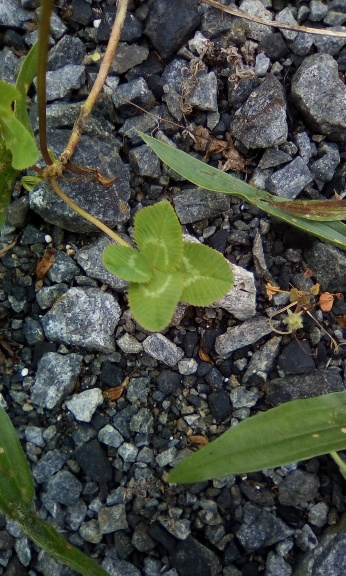4leaf: (100, 199, 235, 333)
